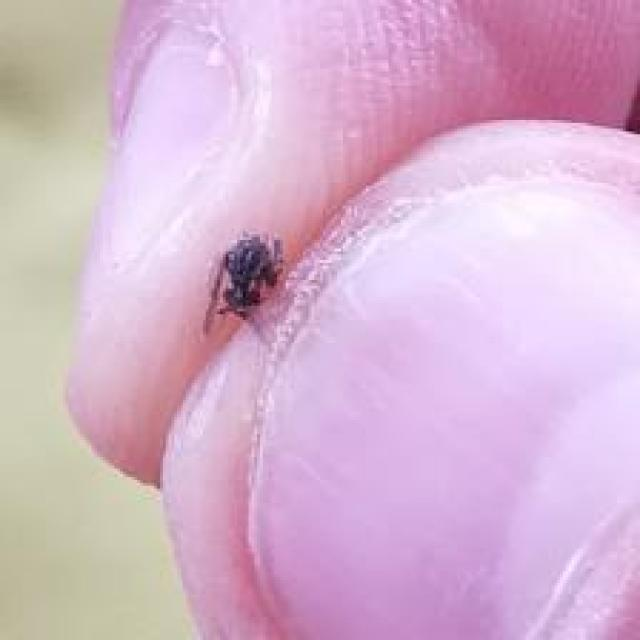Aedes albopictus: (200, 227, 286, 336)
